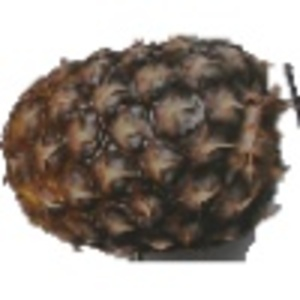abacaxi: (2, 32, 287, 256)
